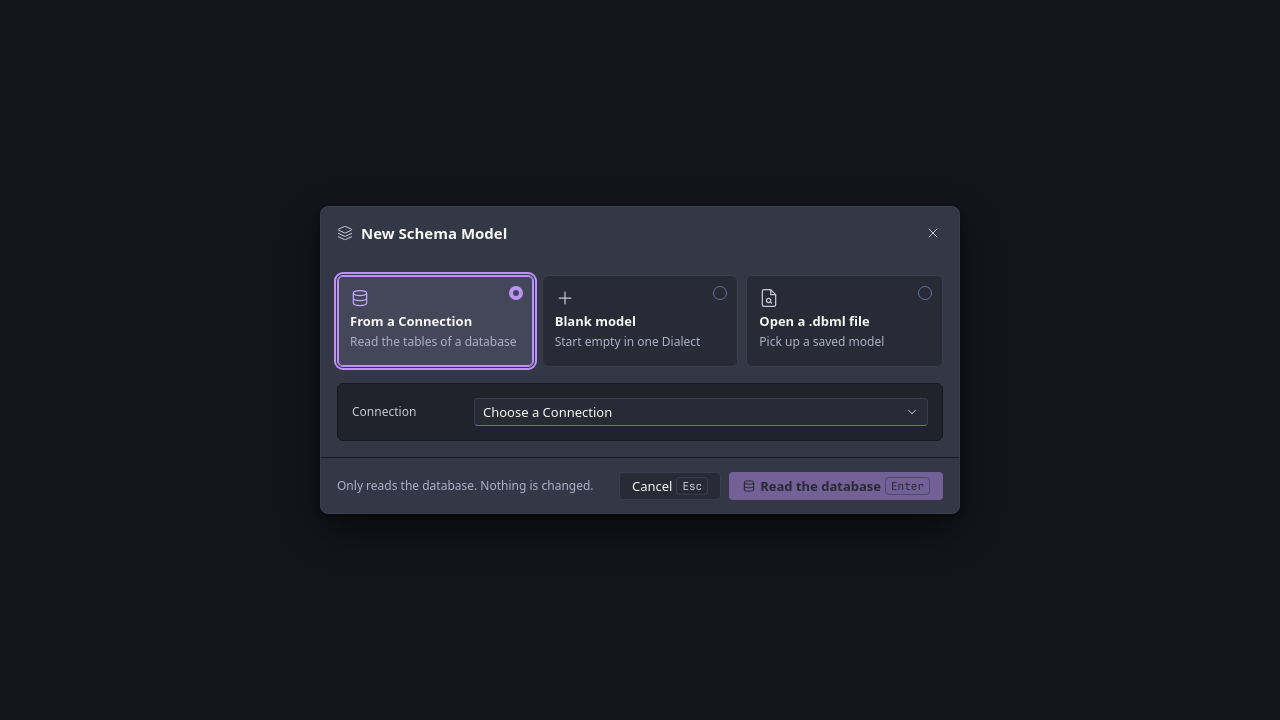
chosen_database_shows_its_table_count
Click the dropdown labelled "Connection": (548, 412) x1=474 y1=398 x2=928 y2=426
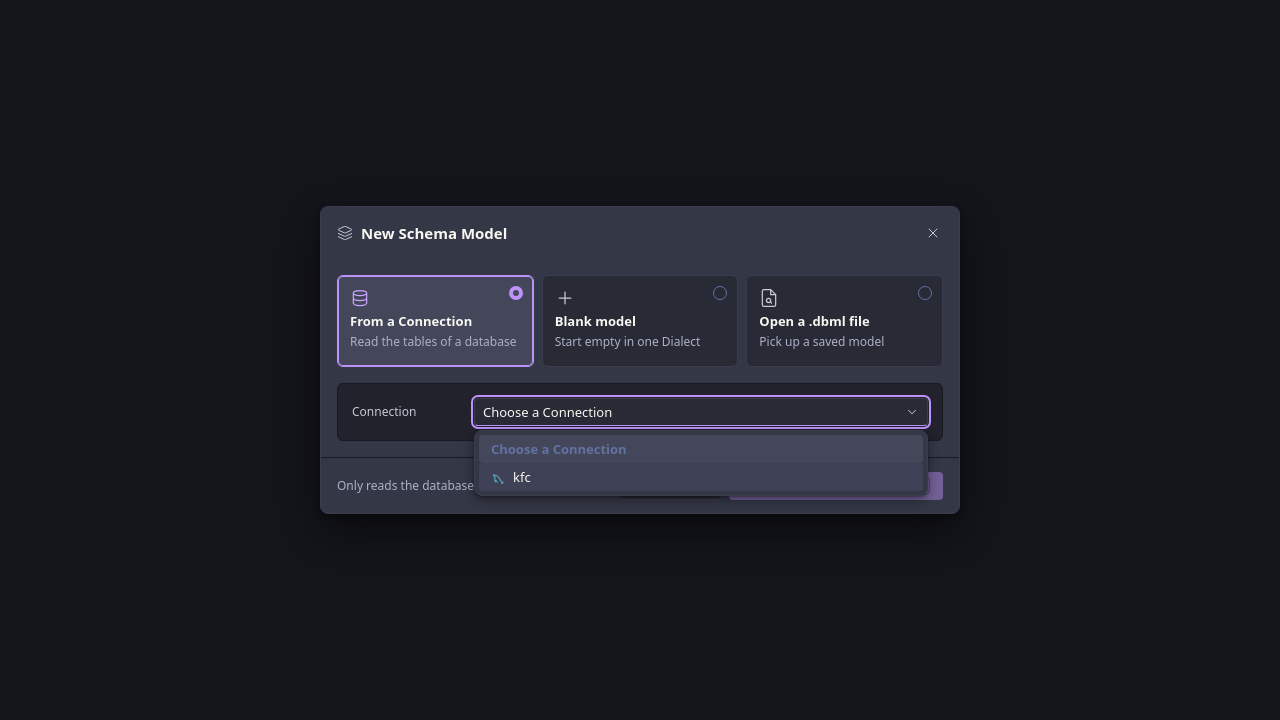
Click the option "kfc": (498, 477) x1=479 y1=463 x2=923 y2=491
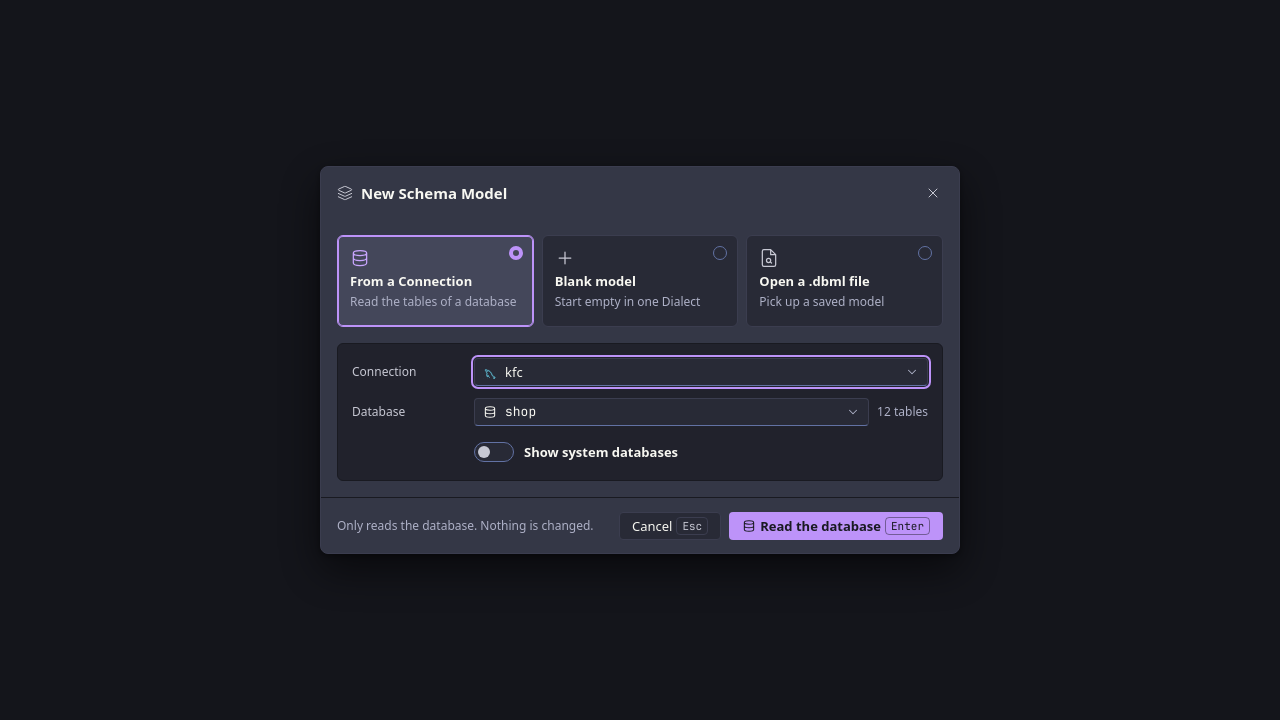
Now the text "12 tables" is shown, box x1=877 y1=404 x2=928 y2=420
